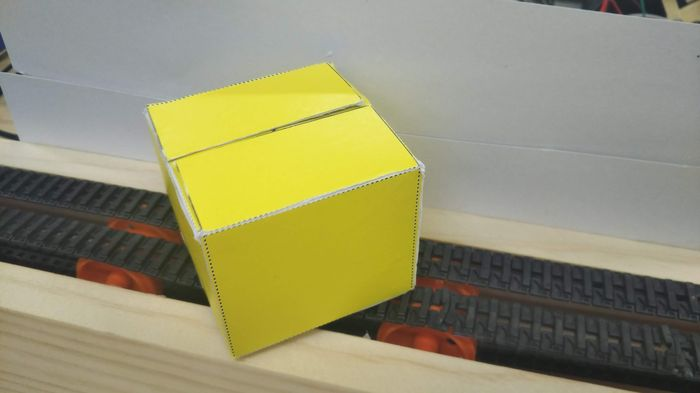box4: (138, 57, 422, 357)
